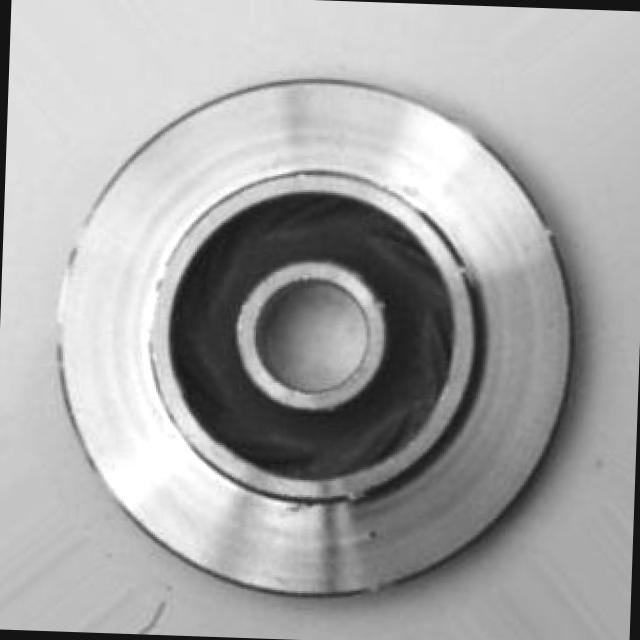Defect: (362, 524, 384, 545)
